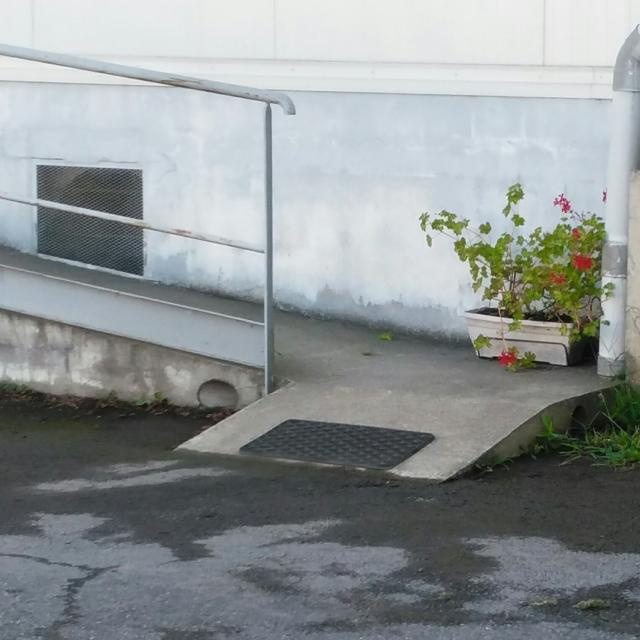CLIMB: (170, 383, 548, 488)
